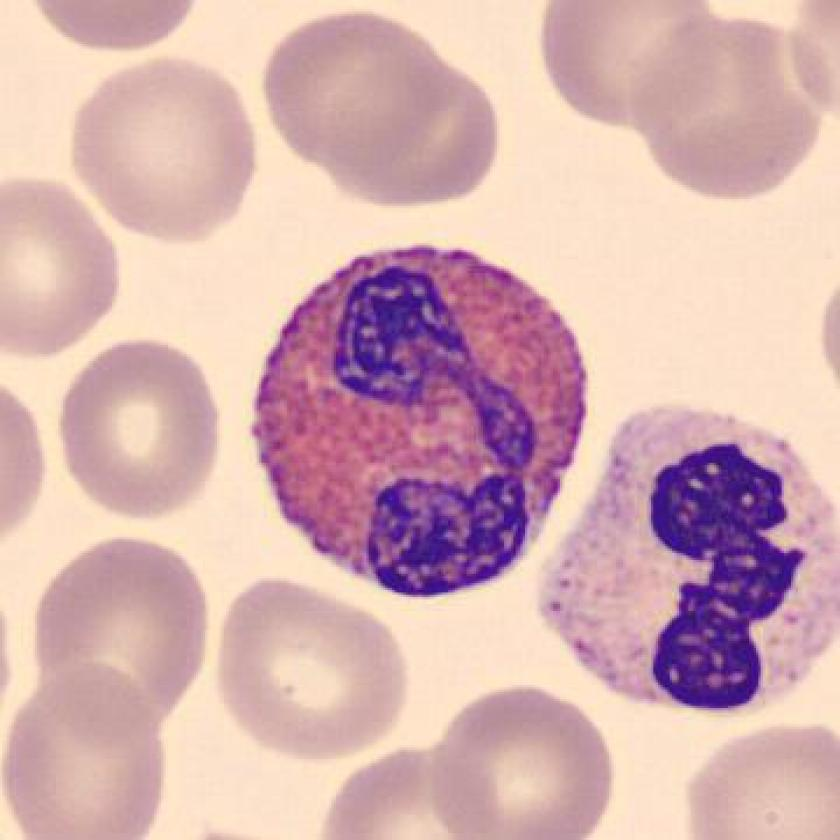eosinophil: (237, 228, 605, 614)
